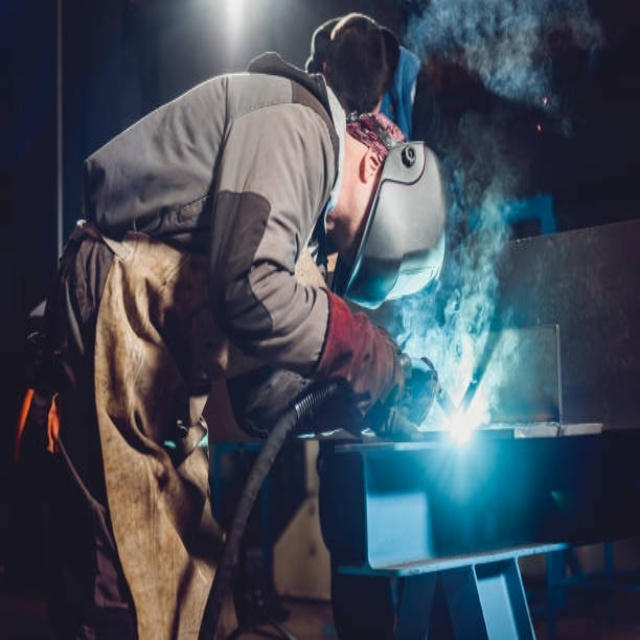Guantes: (313, 288, 414, 419)
